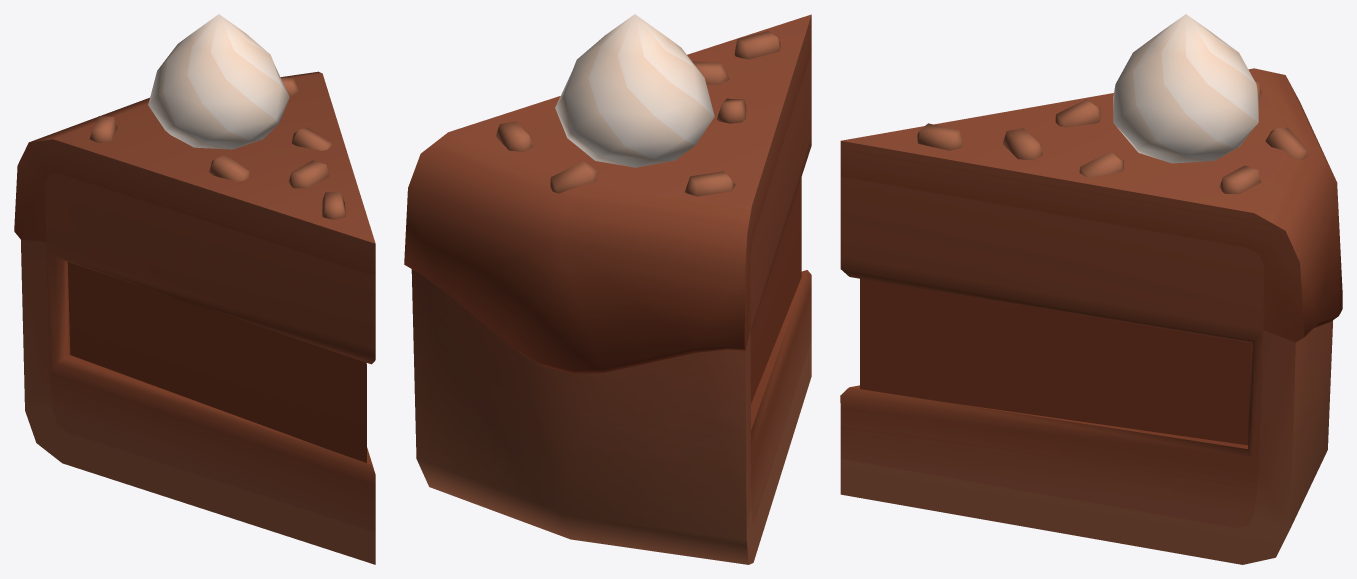
Rendered from CakeChocolateSlice-transformed.glb.
3 views of the same model, side by side, from view 1: azimuth 30°, elevation 25°; view 2: azimuth 150°, elevation 25°; view 3: azimuth 270°, elevation 25° (orthographic). The views are drawn at different scales.
Visible parts, largest first — view 1: cake_chocolate_slice; view 2: cake_chocolate_slice; view 3: cake_chocolate_slice.
Part boxes in pixels (x1,y1,x2,y2): cake_chocolate_slice: (14,14,375,564); cake_chocolate_slice: (404,14,811,564); cake_chocolate_slice: (840,14,1342,564).
Size of the model in its own units: 0.4668 by 0.6442 by 0.6102.
1 material, 1 textured.
